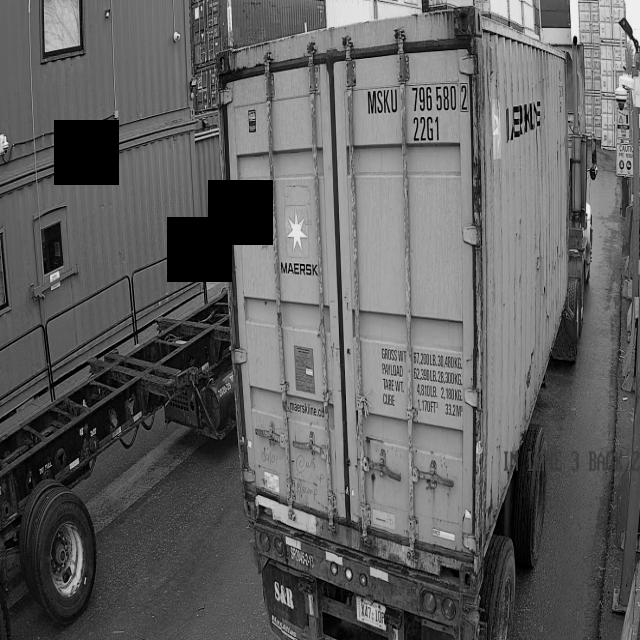container_company_logo: (281, 203, 319, 281)
container_number: (367, 76, 469, 141)
license_plate: (357, 595, 387, 627)
other_container_info: (369, 336, 459, 414)
truck_trailer: (0, 274, 250, 623)
truck_with_container: (235, 10, 598, 640)
